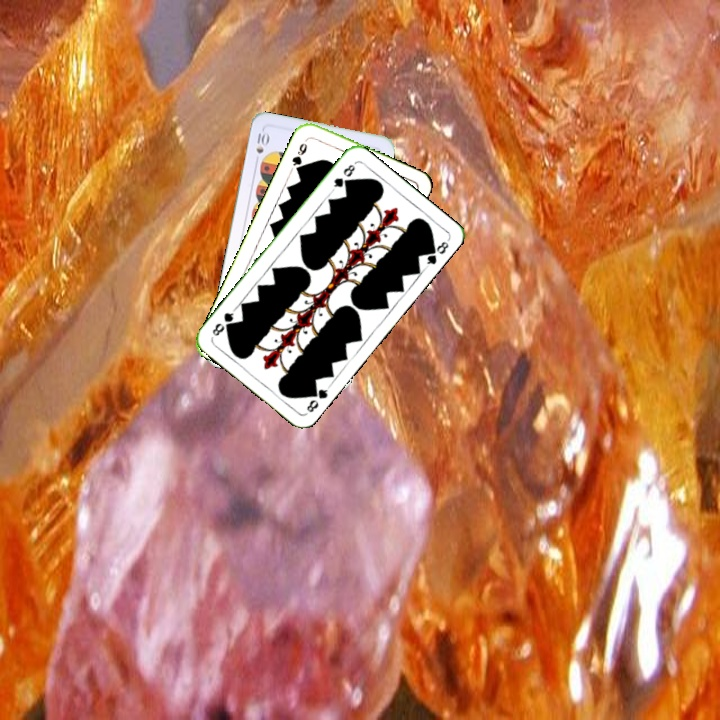G8: (302, 382, 333, 416), (328, 160, 358, 193)
G9: (288, 139, 310, 175)
S10: (251, 129, 271, 166)
